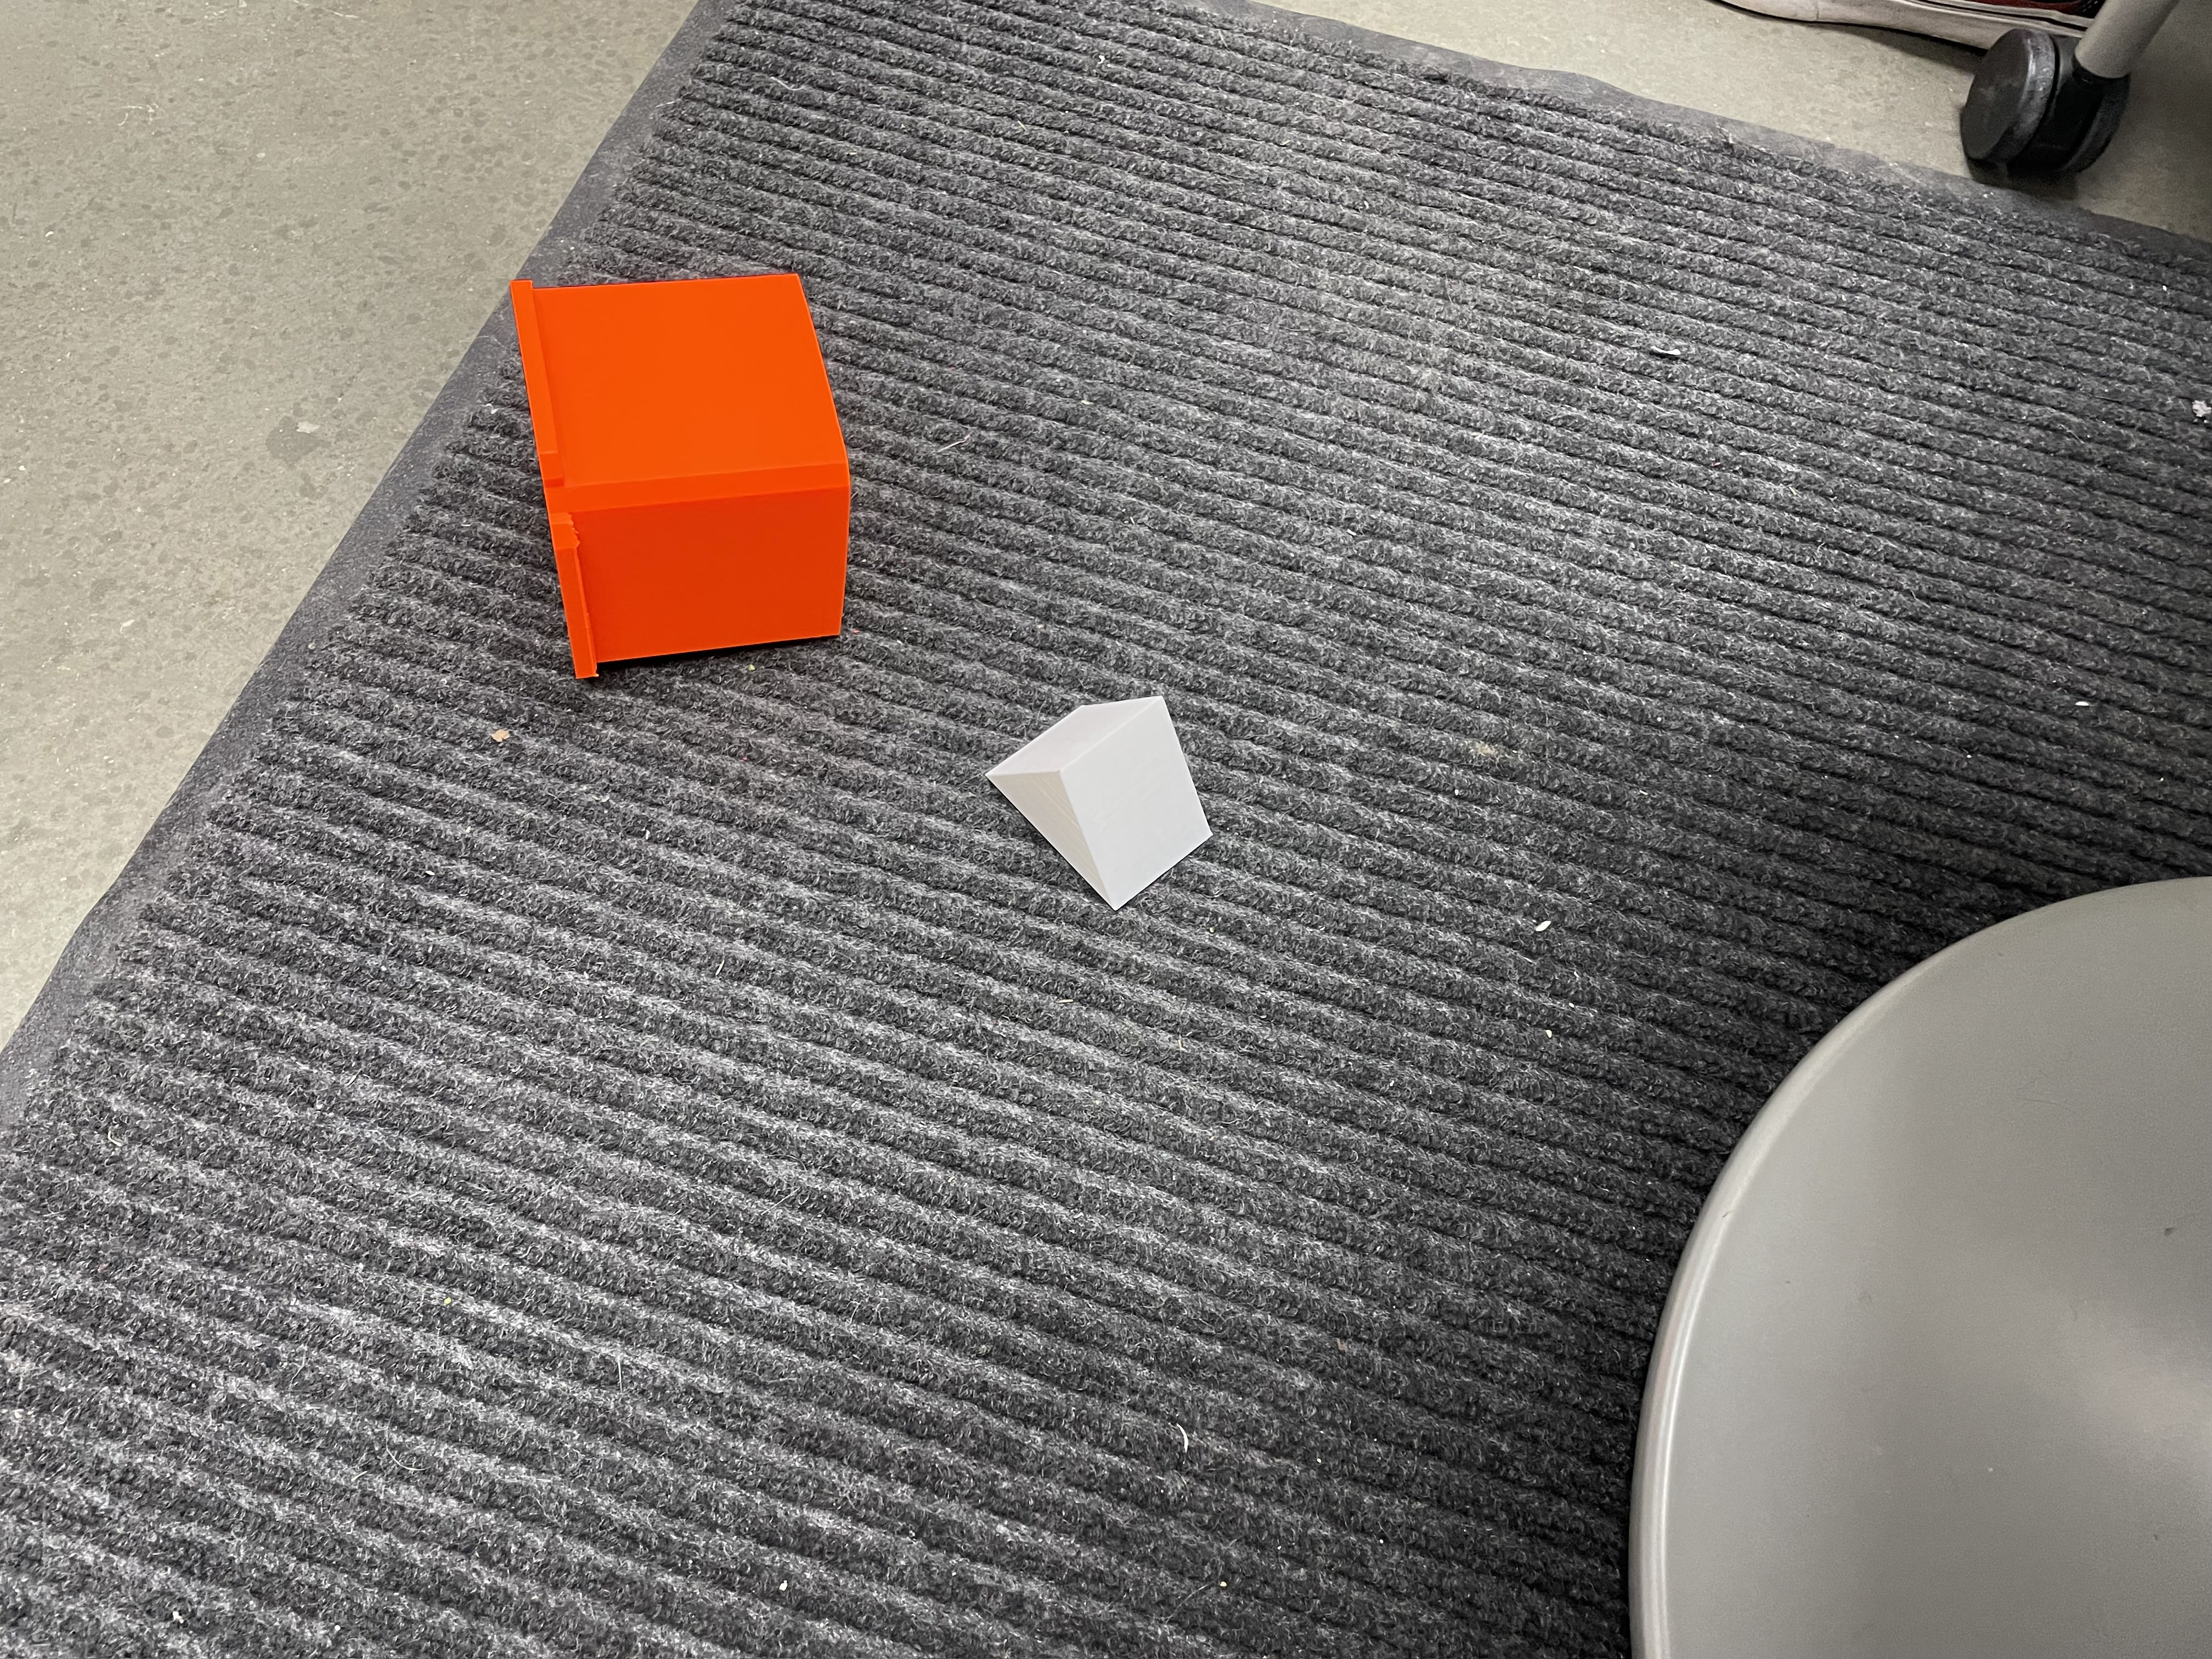payload1: (488, 258, 902, 701)
payload2: (974, 659, 1264, 938)
